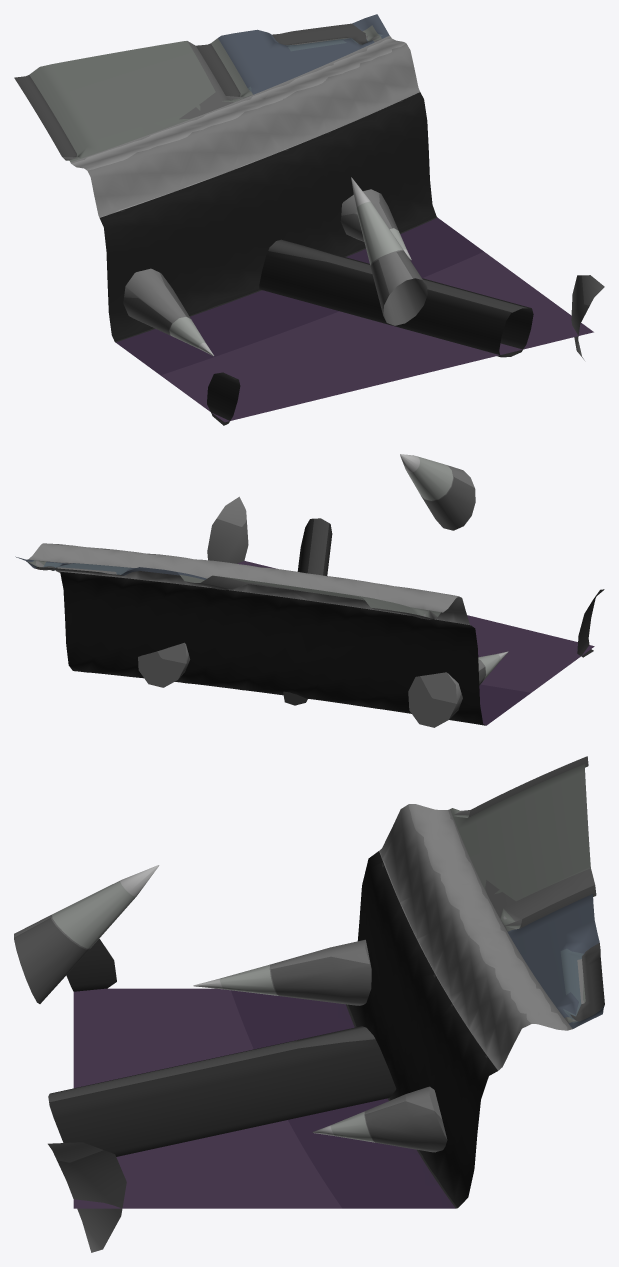
Rendered from coral_citadel_127.glb.
The picture shows the model from 3 angles, top to bottom: view 1: azimuth 30°, elevation 25°; view 2: azimuth 150°, elevation 25°; view 3: azimuth 270°, elevation 25°; orthographic projection. The views are drawn at different scales.
Visible parts, largest first — view 1: coral_citadel_127; view 2: coral_citadel_127; view 3: coral_citadel_127.
Part boxes in pixels (x1,y1,x2,y2): coral_citadel_127: (14, 14, 604, 425); coral_citadel_127: (15, 454, 604, 727); coral_citadel_127: (14, 756, 604, 1252).
Size of the model in its own units: 24 by 14.43 by 27.24.
